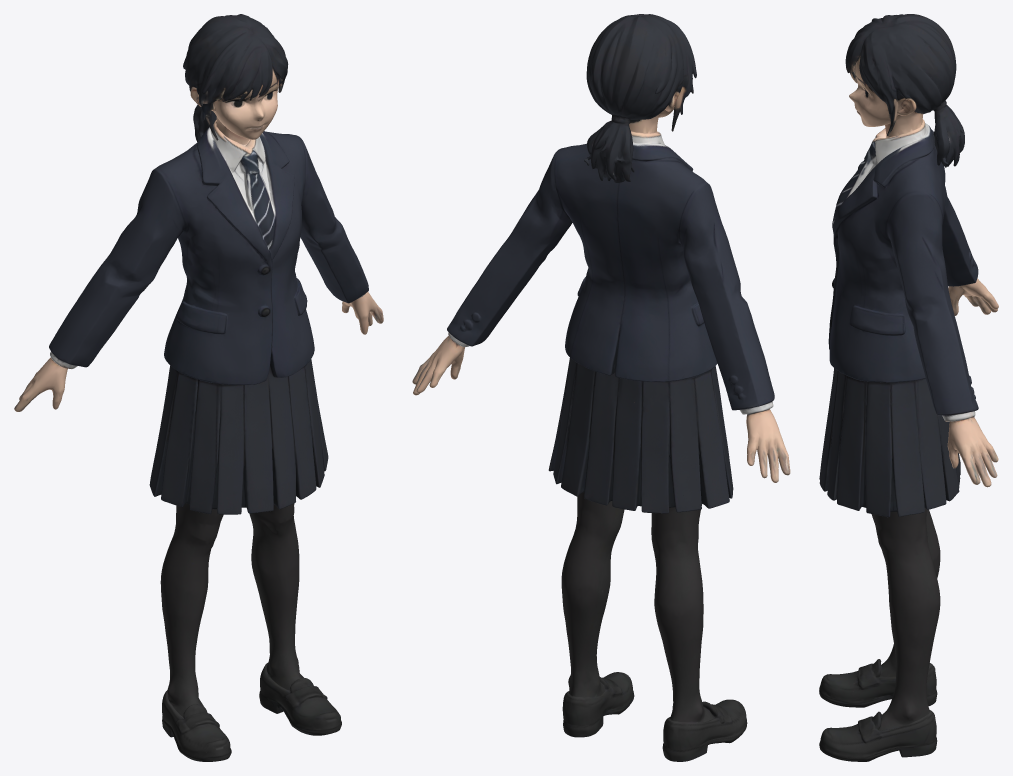
File: student_f_front.glb
3 renders of one model, left to right at view 1: azimuth 30°, elevation 25°; view 2: azimuth 150°, elevation 25°; view 3: azimuth 270°, elevation 25°, orthographic. The views are drawn at different scales.
Parts seen in each view (by area): view 1: tripo_node_05202bc6-38b8-440c-8a3a-a3a235a0489a; view 2: tripo_node_05202bc6-38b8-440c-8a3a-a3a235a0489a; view 3: tripo_node_05202bc6-38b8-440c-8a3a-a3a235a0489a.
Part boxes in pixels (<box>): tripo_node_05202bc6-38b8-440c-8a3a-a3a235a0489a: <box>14,14,383,761</box>; tripo_node_05202bc6-38b8-440c-8a3a-a3a235a0489a: <box>412,14,790,761</box>; tripo_node_05202bc6-38b8-440c-8a3a-a3a235a0489a: <box>819,14,998,761</box>.
Size of the model in its own units: 0.8874 by 1.62 by 0.3719.
1 material, 1 textured.
